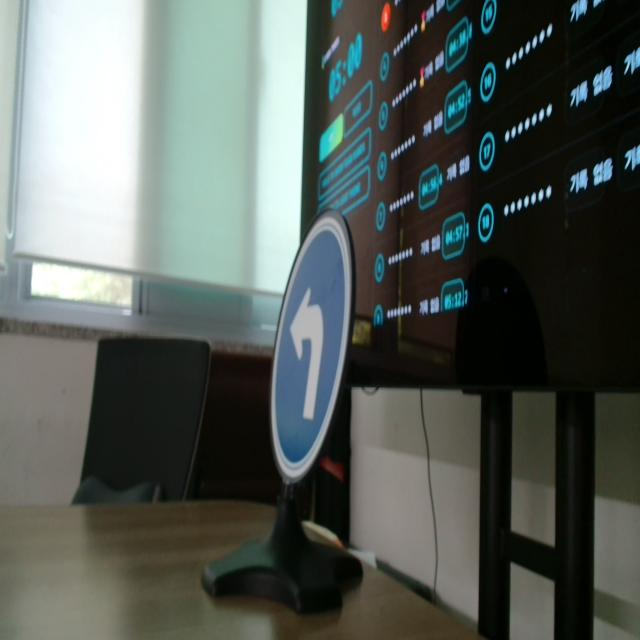left_direction: (263, 205, 374, 488)
